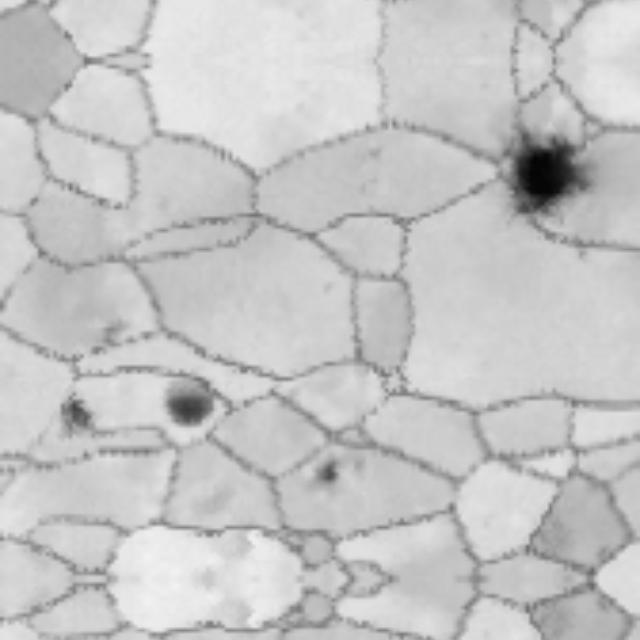good_void: (508, 128, 588, 217), (151, 376, 222, 433), (93, 313, 132, 358), (62, 396, 92, 434), (316, 455, 343, 486), (358, 142, 384, 169), (570, 249, 592, 265)
